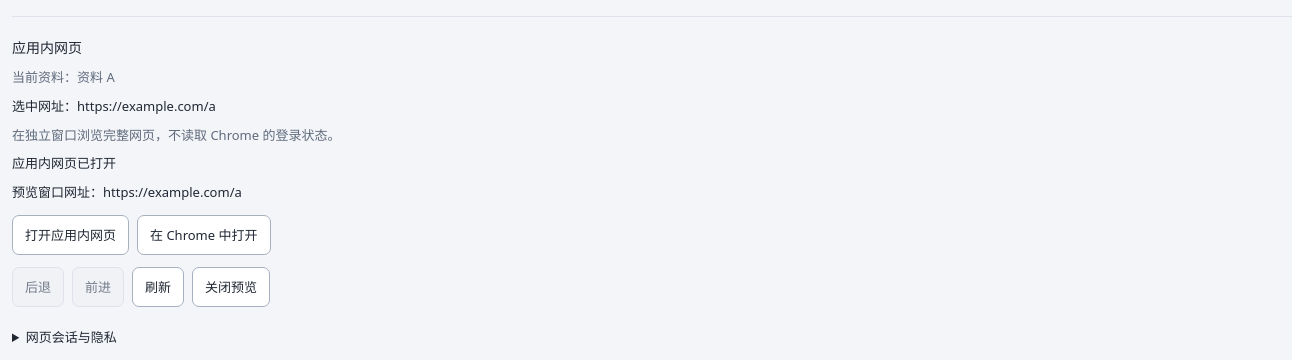
Test case: ignores a late open after a newer close
This screenshot has width=1292, height=360.
Expected: the text "应用内网页已打开" is shown, top-left (12, 154), bottom-right (116, 172)
Step 1. Click the button "打开应用内网页" → click(70, 235), box top-left (12, 215), bottom-right (129, 255)
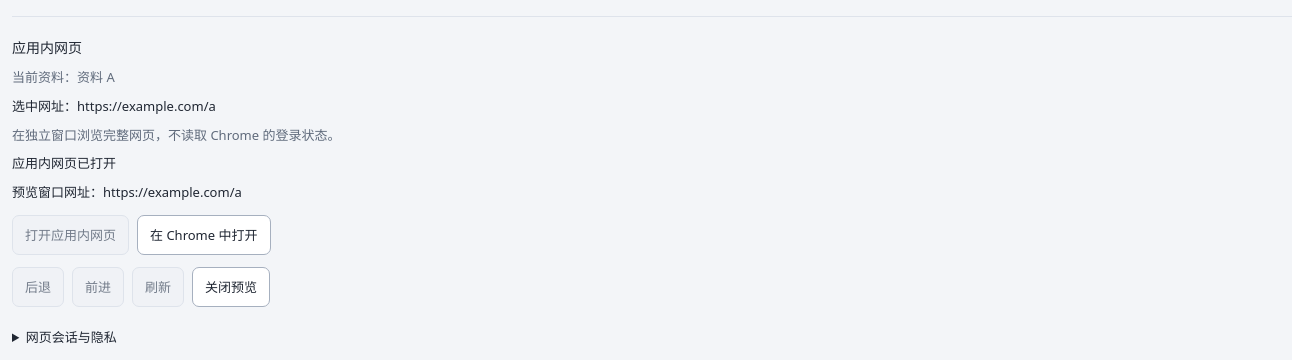
Step 2. Click the button "关闭预览" → click(231, 287), box top-left (192, 267), bottom-right (270, 307)
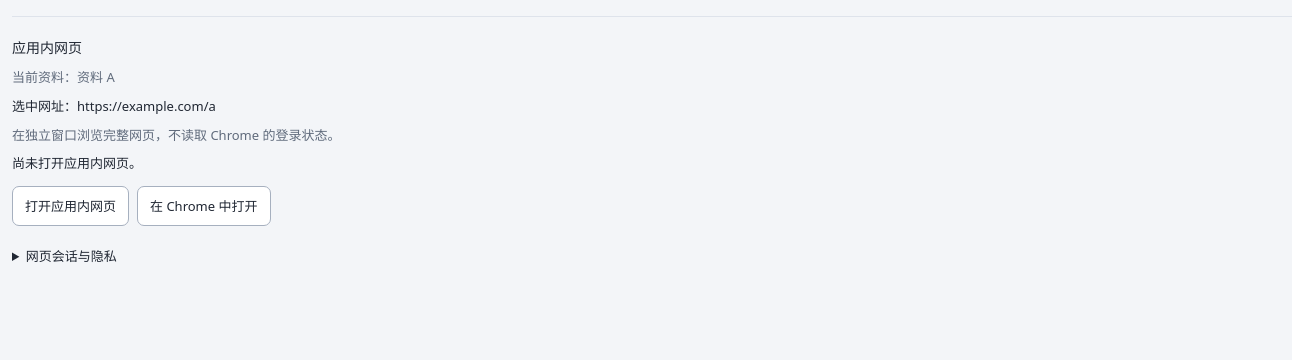
Result: the text "尚未打开应用内网页。" is shown at top-left (12, 154), bottom-right (142, 172)
